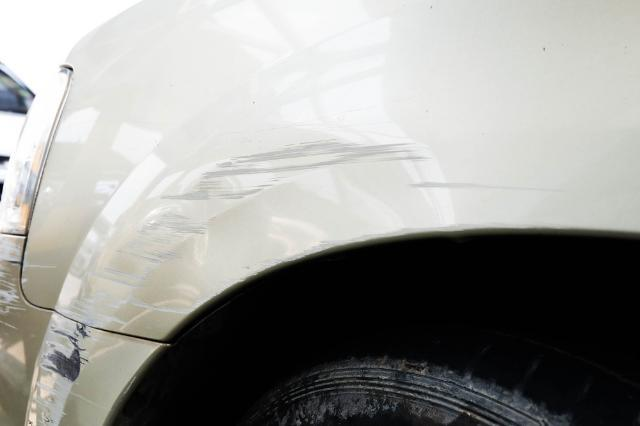scratch: (55, 136, 565, 336), (32, 316, 100, 426), (0, 238, 24, 329)
